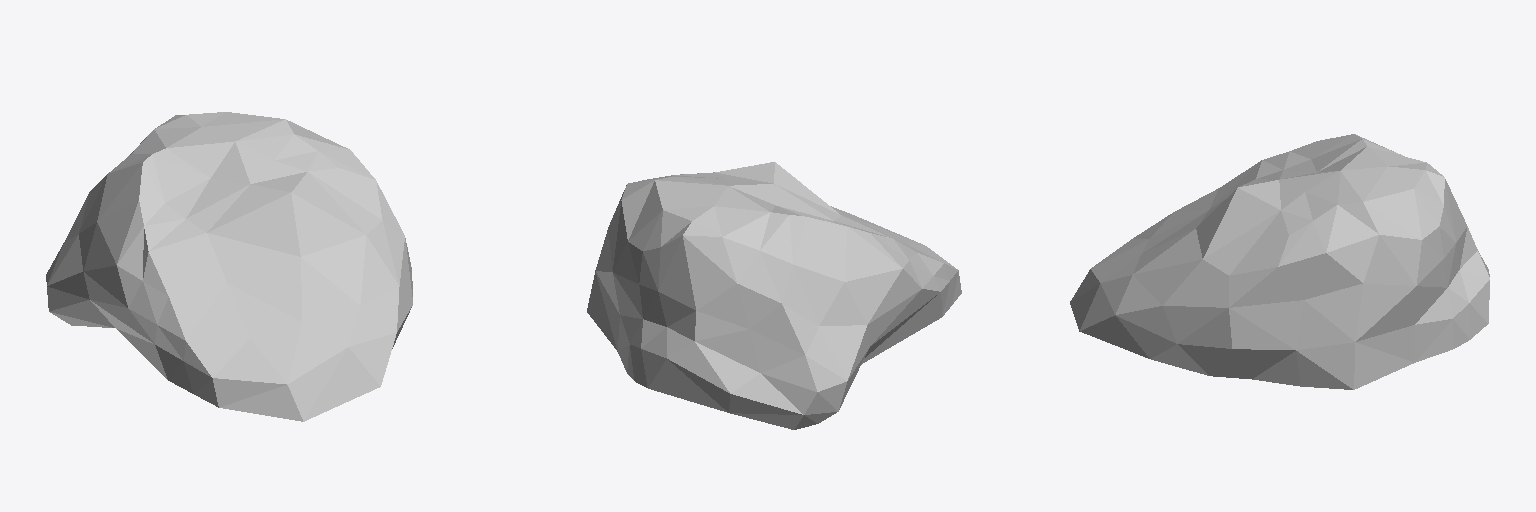
The model's file is stone2.obj.
3 views of the same model, side by side, from view 1: azimuth 30°, elevation 25°; view 2: azimuth 150°, elevation 25°; view 3: azimuth 270°, elevation 25° (orthographic).
Visible parts, largest first — view 1: r8_Cube.001; view 2: r8_Cube.001; view 3: r8_Cube.001.
Part boxes in pixels (left/top/right/bottom): r8_Cube.001: left=46, top=112, right=412, bottom=421; r8_Cube.001: left=587, top=162, right=961, bottom=429; r8_Cube.001: left=1070, top=134, right=1489, bottom=389.
Size of the model in its own units: 3.67 by 2.18 by 4.62.